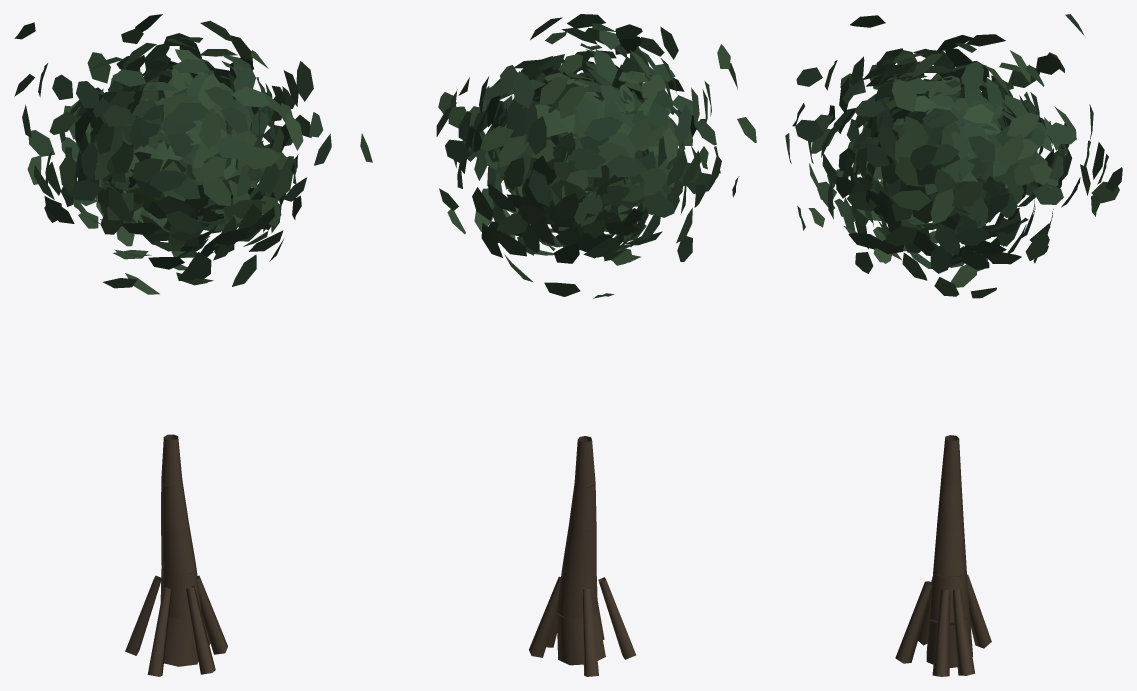
Rendered from cypress_0.glb.
3 renders of one model, left to right at view 1: azimuth 30°, elevation 25°; view 2: azimuth 150°, elevation 25°; view 3: azimuth 270°, elevation 25°, orthographic.
Visible parts, largest first — view 1: cypress_0_LOD0; view 2: cypress_0_LOD0; view 3: cypress_0_LOD0.
Boxes of the visible parts, <box> form: cypress_0_LOD0: <box>14,14,331,676</box>; cypress_0_LOD0: <box>360,14,756,676</box>; cypress_0_LOD0: <box>785,14,1122,676</box>.
Size of what is drawn, in the model's own units: 0.6734 by 1.24 by 0.6223.
